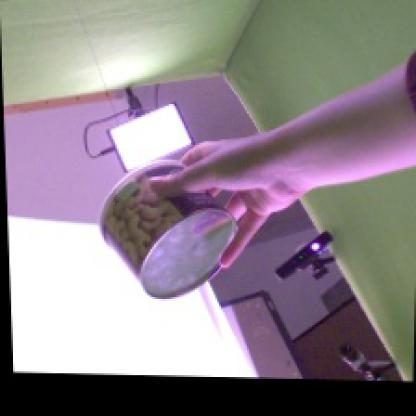Hand: (150, 138, 295, 268)
